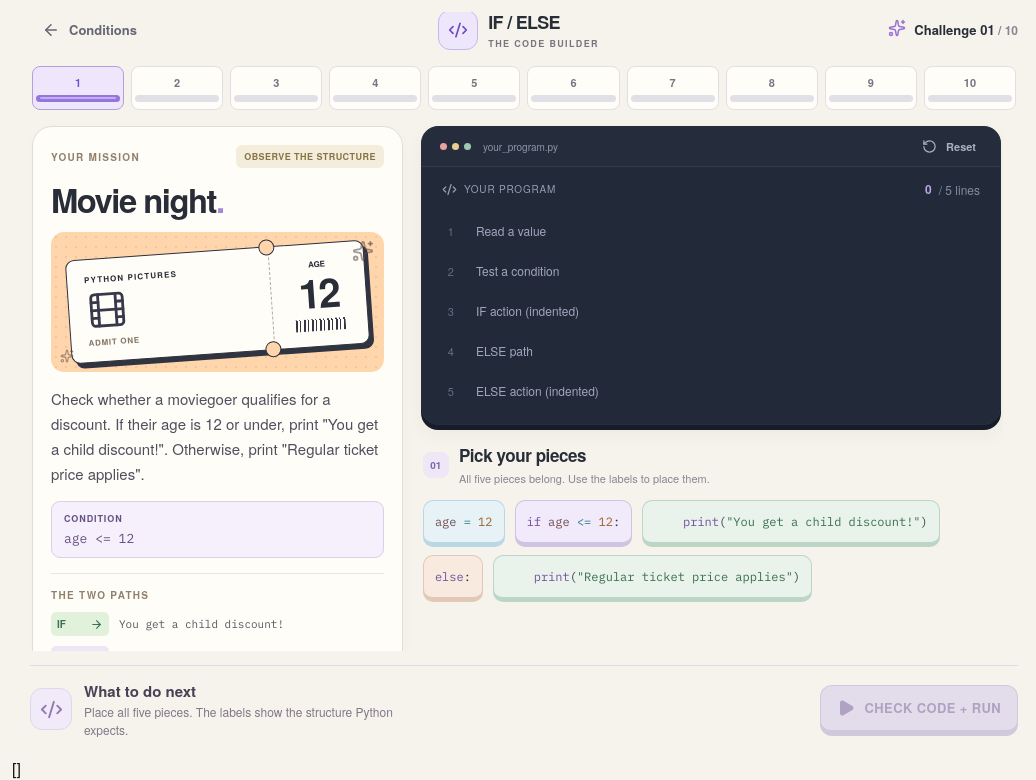
it: IF/ELSE learning progression › lets a teacher open any of the ten levels without awarding completion
(page scrolled)
Click the button "10". click: coordinates (970, 88)
box: [924,66,1016,110]
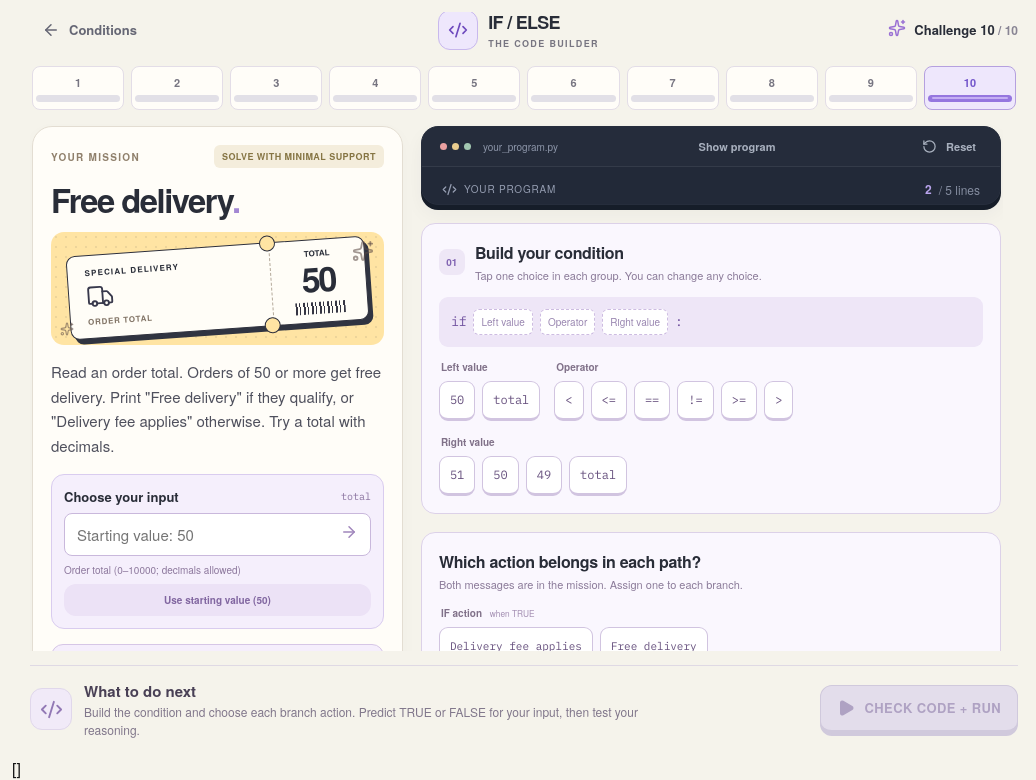
expect the heading "Free delivery." is shown: met, box [51,176,240,223]
Click the button "7". click: coordinates (673, 88)
box: [627,66,719,110]
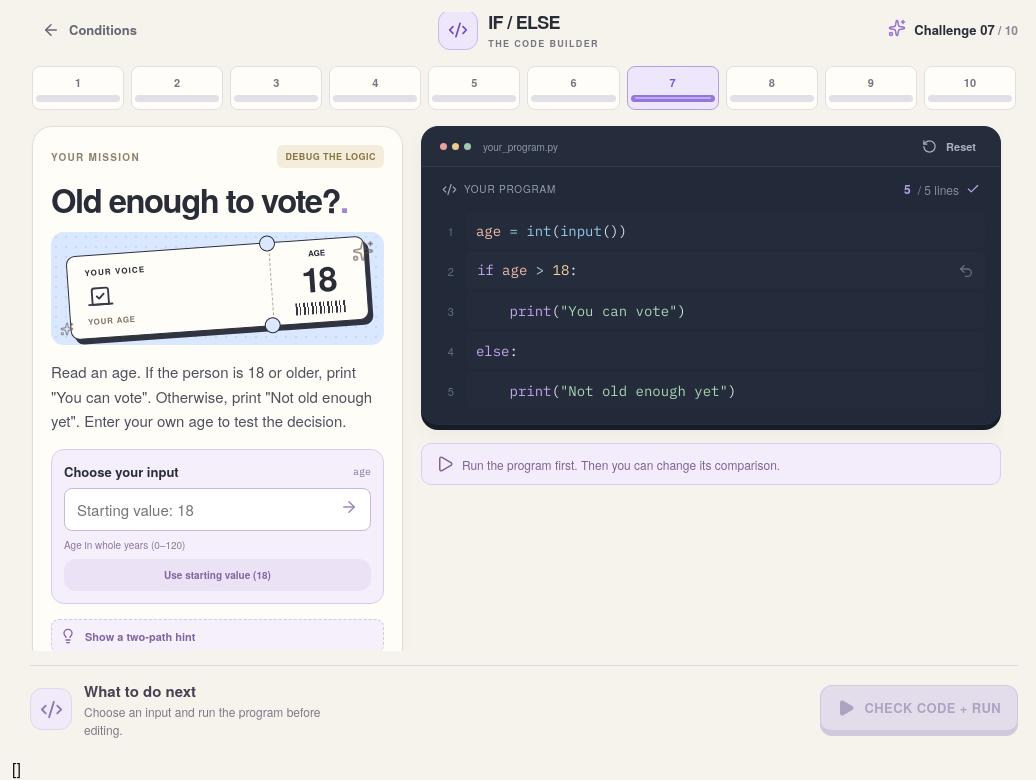
expect the heading "Old enough to vote?." is shown: met, box [51,183,384,217]
Click the button "4". click: coordinates (375, 88)
box: [329,66,421,110]
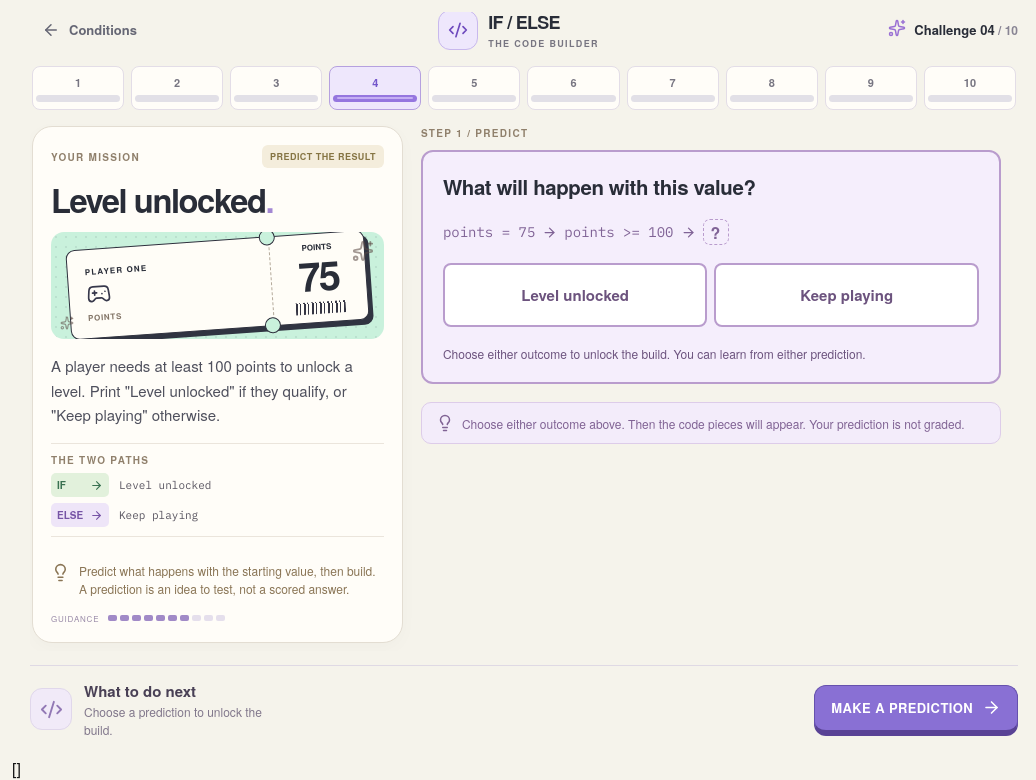
expect the heading "Level unlocked." is shown: met, box [51,176,273,223]
Click the button "1". click: coordinates (78, 88)
box: [32,66,124,110]
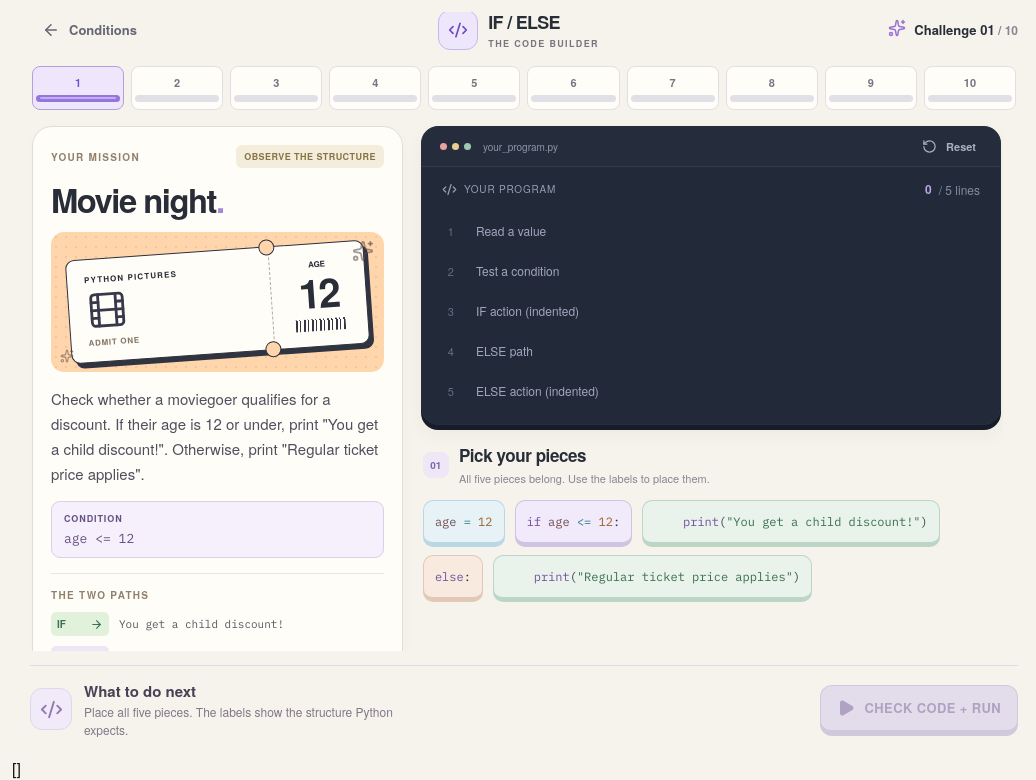
expect the text with test id "learning" reads "[]": met, box [12,757,21,779]
expect the heading "Movie night." is shown: met, box [51,176,224,223]
